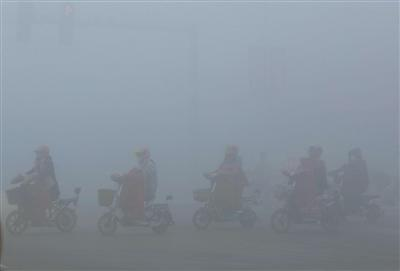motorbike: (97, 173, 177, 236), (5, 176, 81, 235), (268, 170, 335, 232), (191, 172, 259, 230), (320, 169, 382, 220)
person: (285, 144, 329, 219), (22, 144, 60, 221), (122, 146, 158, 221), (329, 149, 370, 211), (210, 145, 244, 215)
